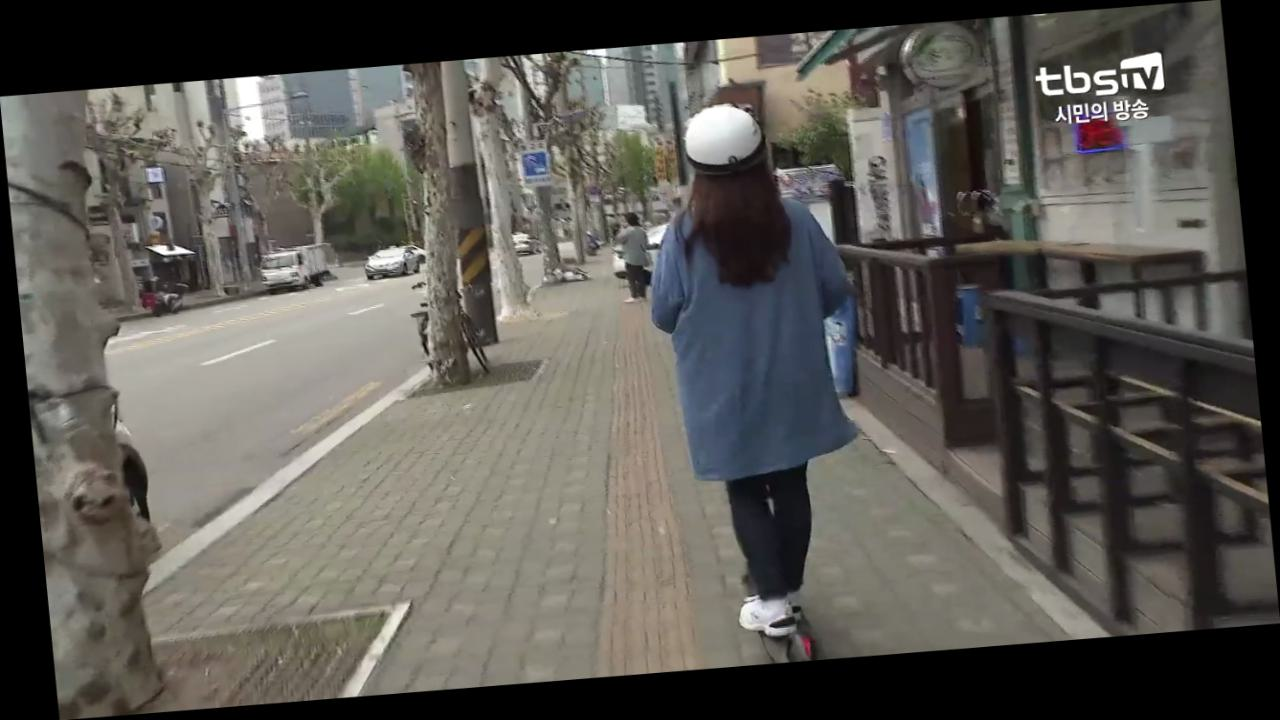helmet: (631, 90, 897, 671)
